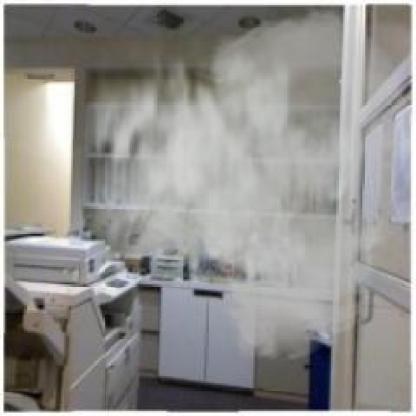Smoke: (64, 0, 411, 364)
